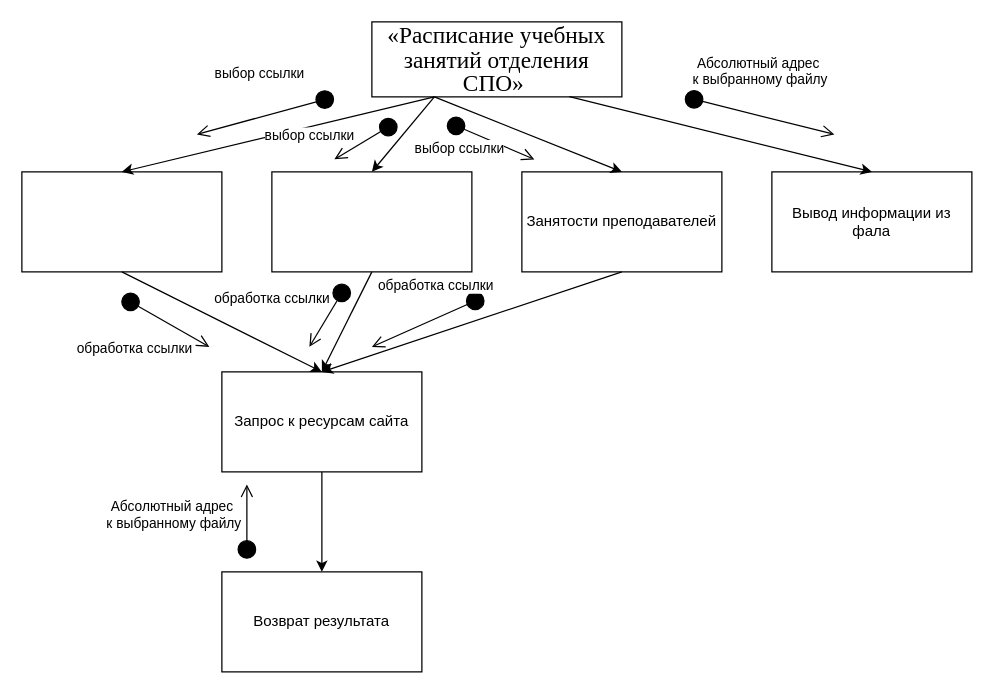
This 994x694 diagram has some shape labels left out. The shapes that lost their labels are listed below. From the top down, each one's box as (x1, y1, x2, y2) in pixels, then its label:
(21, 171, 222, 272): Выбор группы
(271, 171, 472, 272): Выбор заочного отделения
